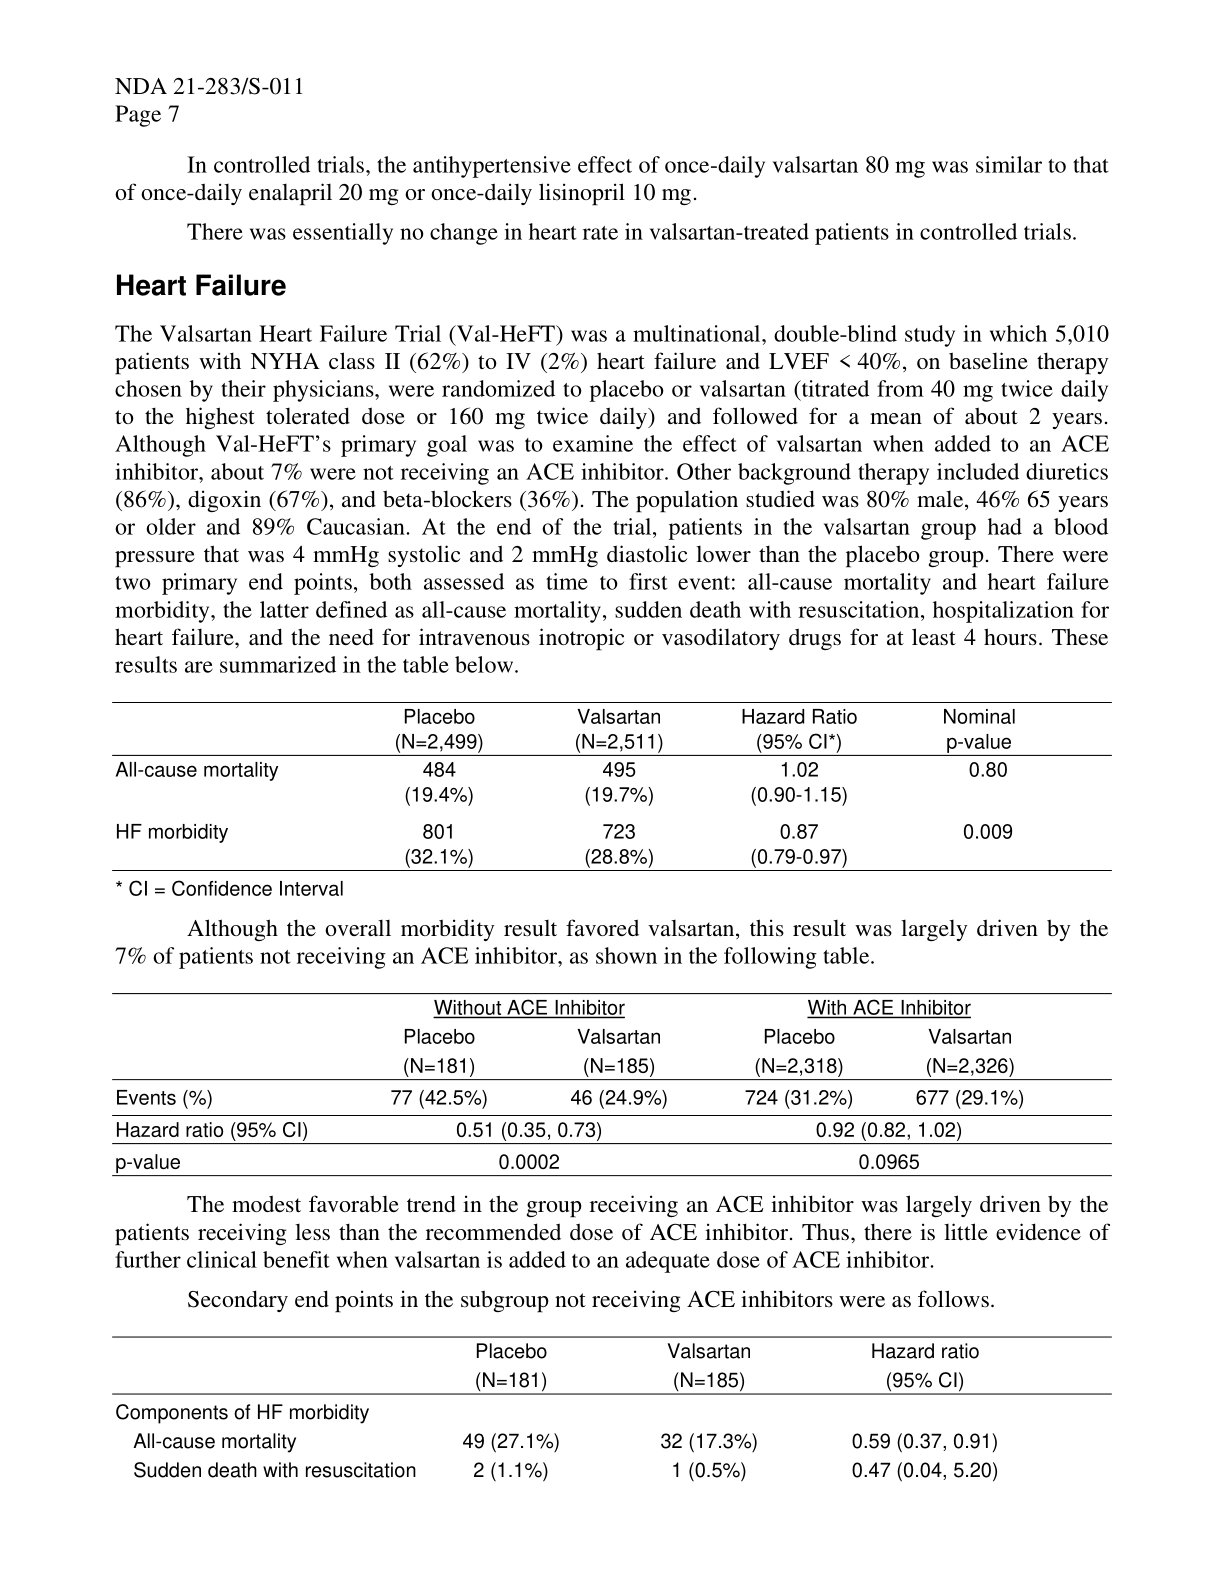partial_lined: (111, 699, 1115, 874), (109, 1331, 1117, 1484)
partial_lined_merged_cells: (111, 989, 1116, 1178)
